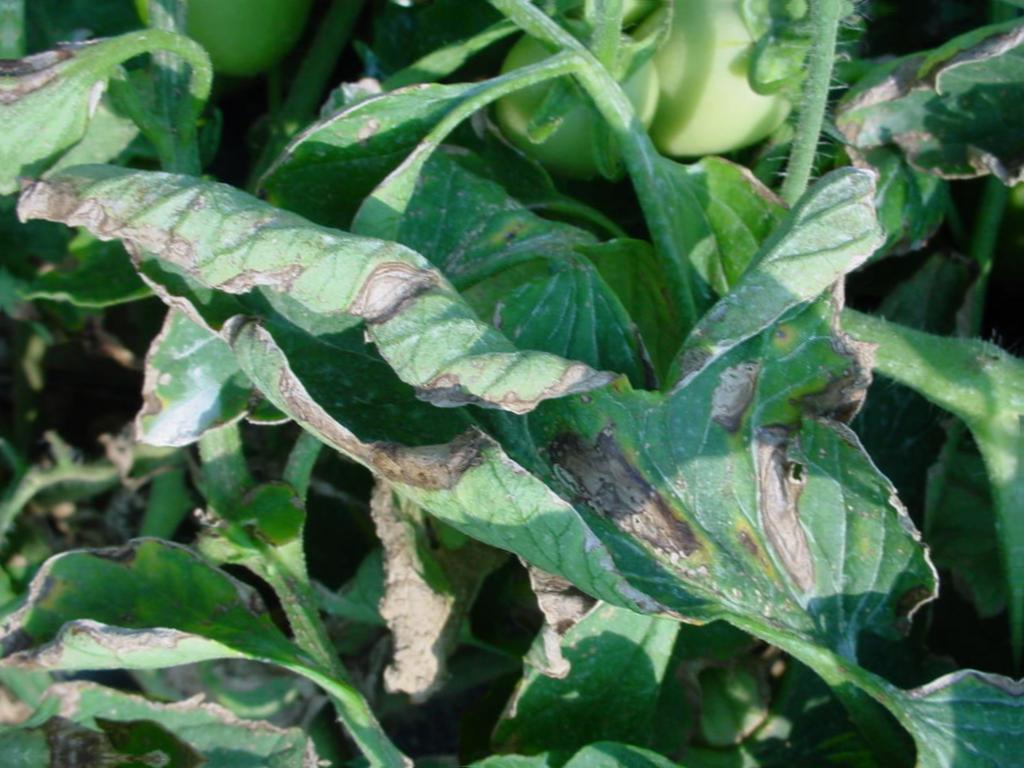Tomato leaf bacterial spot: (8, 116, 954, 729)
